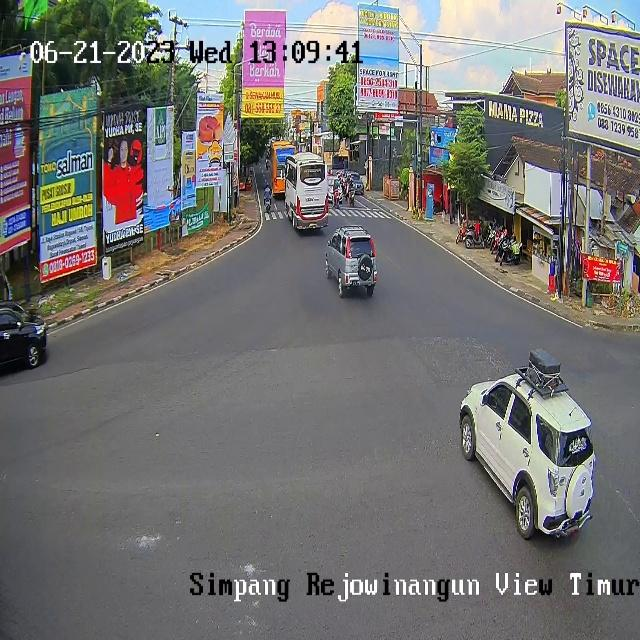bus: (348, 187, 356, 207), (332, 188, 339, 208), (265, 198, 271, 213)
car: (284, 152, 328, 230), (271, 141, 296, 194)
motorcycle: (459, 372, 596, 540), (325, 225, 378, 298), (0, 301, 47, 370), (346, 171, 364, 195), (328, 175, 343, 201)
